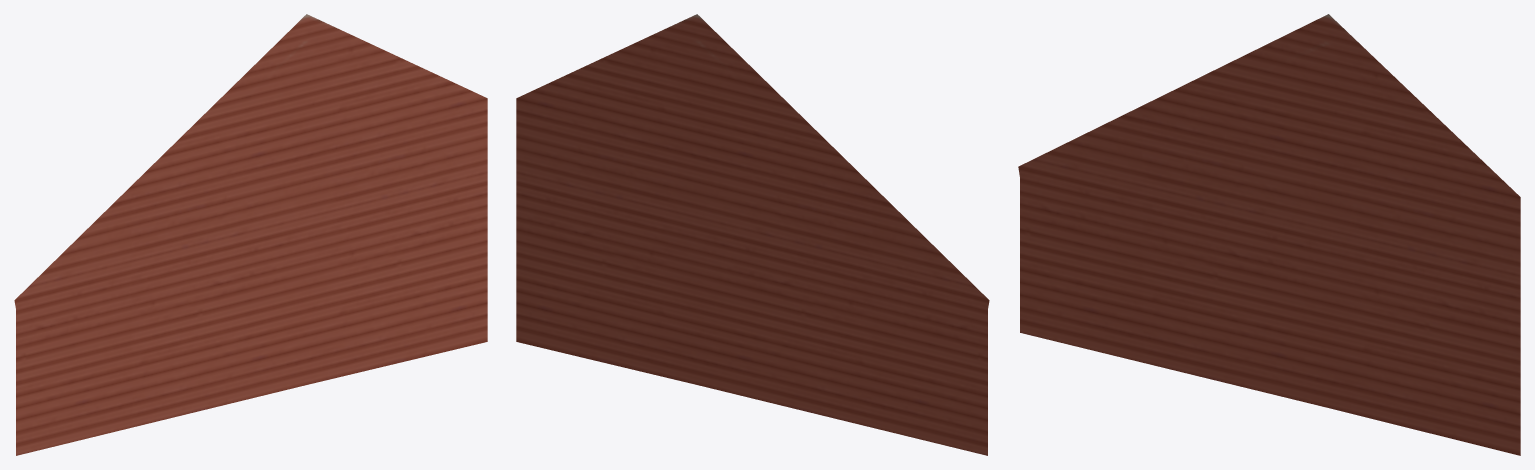
File: house_side_1.fbx
The picture shows the model from 3 angles, left to right: view 1: azimuth 30°, elevation 25°; view 2: azimuth 150°, elevation 25°; view 3: azimuth 330°, elevation 25°; orthographic projection. The views are drawn at different scales.
Visible parts, largest first — view 1: pCube47; view 2: pCube47; view 3: pCube47.
Part boxes in pixels (x1,y1,x2,y2): pCube47: [14, 14, 487, 455]; pCube47: [516, 14, 989, 455]; pCube47: [1018, 14, 1520, 455].
Size of the model in its own units: 10.02 by 7.53 by 0.
